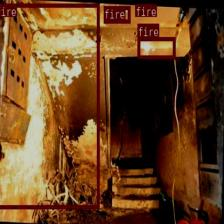fire: (0, 3, 98, 208), (137, 36, 175, 58), (103, 6, 130, 22), (135, 3, 147, 11)
